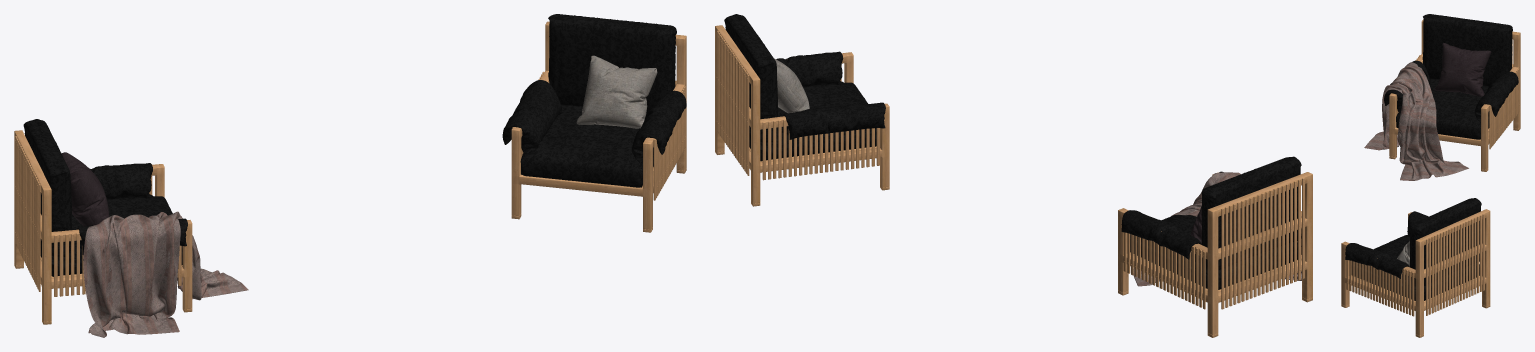
Rendered from fauteuils.glb.
3 renders of one model, left to right at view 1: azimuth 30°, elevation 25°; view 2: azimuth 150°, elevation 25°; view 3: azimuth 270°, elevation 25°, orthographic. The views are drawn at different scales.
Parts seen in each view (by area): view 1: obj.010, obj.008, obj.006, obj.007, obj.009, Chocofur_Textile_03.002, Chocofur_Textile_03.001; view 2: obj.006, obj.009, obj.010, obj.007, Chocofur_Textile_03.002, obj.008; view 3: obj.009, obj.007, obj.008, obj.010, obj.006, Chocofur_Textile_03.001, Chocofur_Textile_03.002.
Boxes of the visible parts, <box> form: obj.010: <box>502,14,686,187</box>; obj.008: <box>83,211,248,337</box>; obj.006: <box>14,130,192,324</box>; obj.007: <box>23,119,187,276</box>; obj.009: <box>511,21,686,232</box>; Chocofur_Textile_03.002: <box>576,55,657,128</box>; Chocofur_Textile_03.001: <box>61,152,109,226</box>; obj.006: <box>1118,172,1312,337</box>; obj.009: <box>715,25,889,206</box>; obj.010: <box>724,14,885,161</box>; obj.007: <box>1121,156,1301,289</box>; Chocofur_Textile_03.002: <box>774,58,809,113</box>; obj.008: <box>1133,172,1301,286</box>; obj.009: <box>1341,209,1490,337</box>; obj.007: <box>1384,14,1518,139</box>; obj.008: <box>1364,62,1468,180</box>; obj.010: <box>1345,198,1481,300</box>; obj.006: <box>1389,19,1520,171</box>; Chocofur_Textile_03.001: <box>1434,43,1491,96</box>; Chocofur_Textile_03.002: <box>1397,241,1409,266</box>.
Size of the model in its own units: 3.94 by 0.8766 by 1.34.
Materials: 5 (5 with a texture image).
